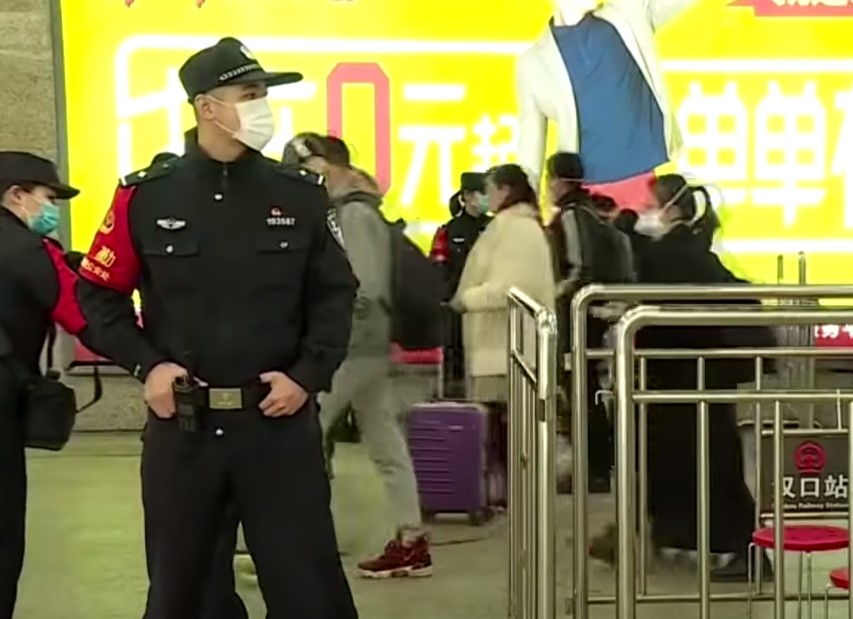face_with_mask: (178, 35, 282, 159), (1, 151, 68, 239), (633, 175, 706, 241), (540, 153, 582, 206), (455, 174, 490, 222)
